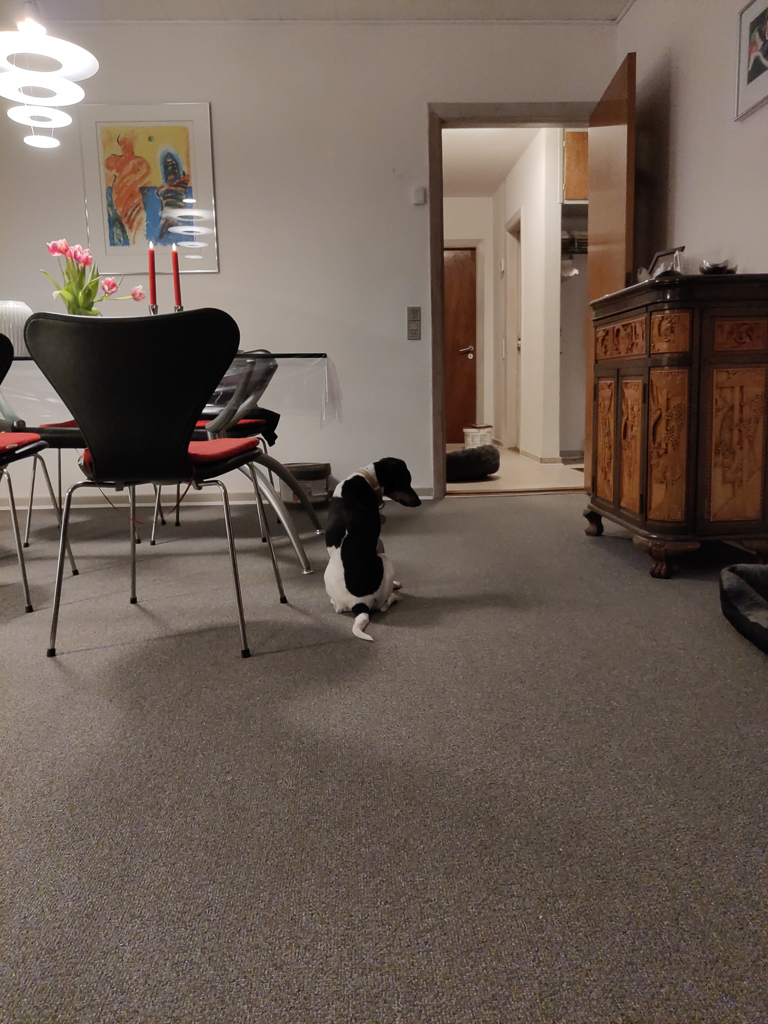Dog: (313, 450, 427, 646)
